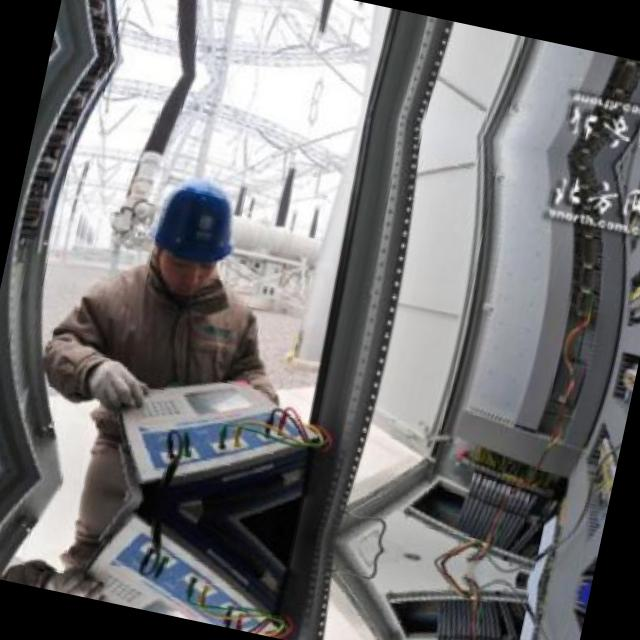helmet: (140, 162, 248, 302)
